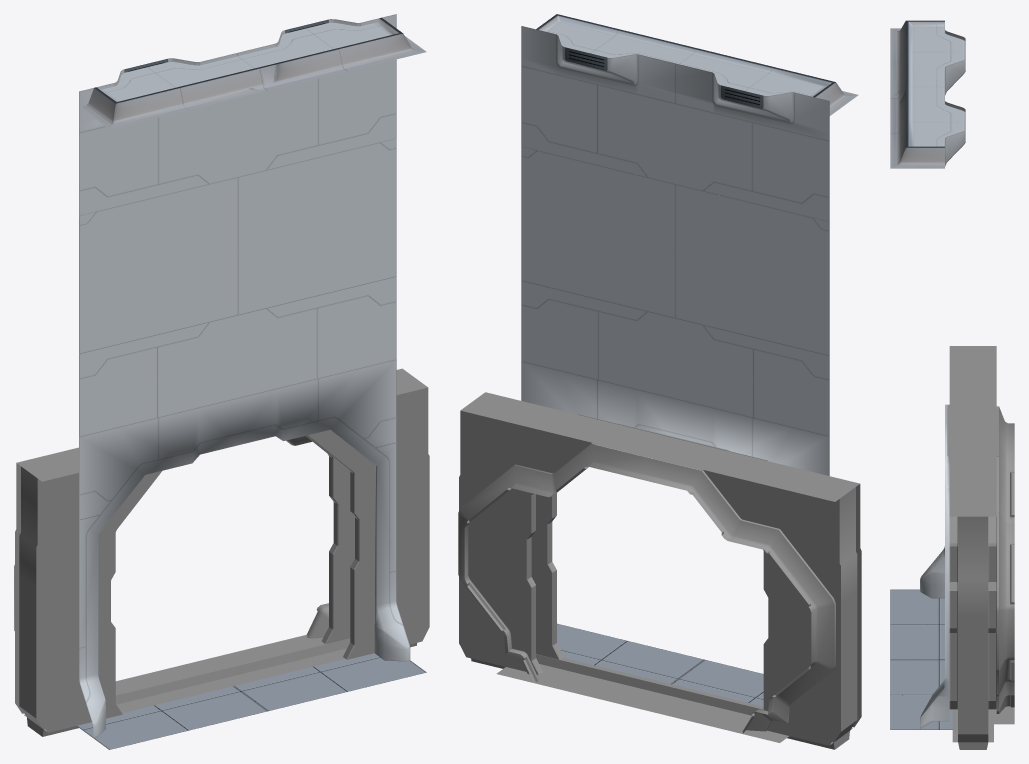
File: Room_Corr_end_tall.fbx
3 views of the same model, side by side, from view 1: azimuth 30°, elevation 25°; view 2: azimuth 150°, elevation 25°; view 3: azimuth 270°, elevation 25° (orthographic). The views are drawn at different scales.
Visible parts, largest first — view 1: Room_Corr_end_tall; view 2: Room_Corr_end_tall; view 3: Room_Corr_end_tall.
Part boxes in pixels (x1,y1,x2,y2): Room_Corr_end_tall: (14,14,429,749); Room_Corr_end_tall: (458,14,861,749); Room_Corr_end_tall: (890,20,1014,749).
Bounding box in the file's own units: 490 × 776 × 150.
Materials: 8 (4 with a texture image).
